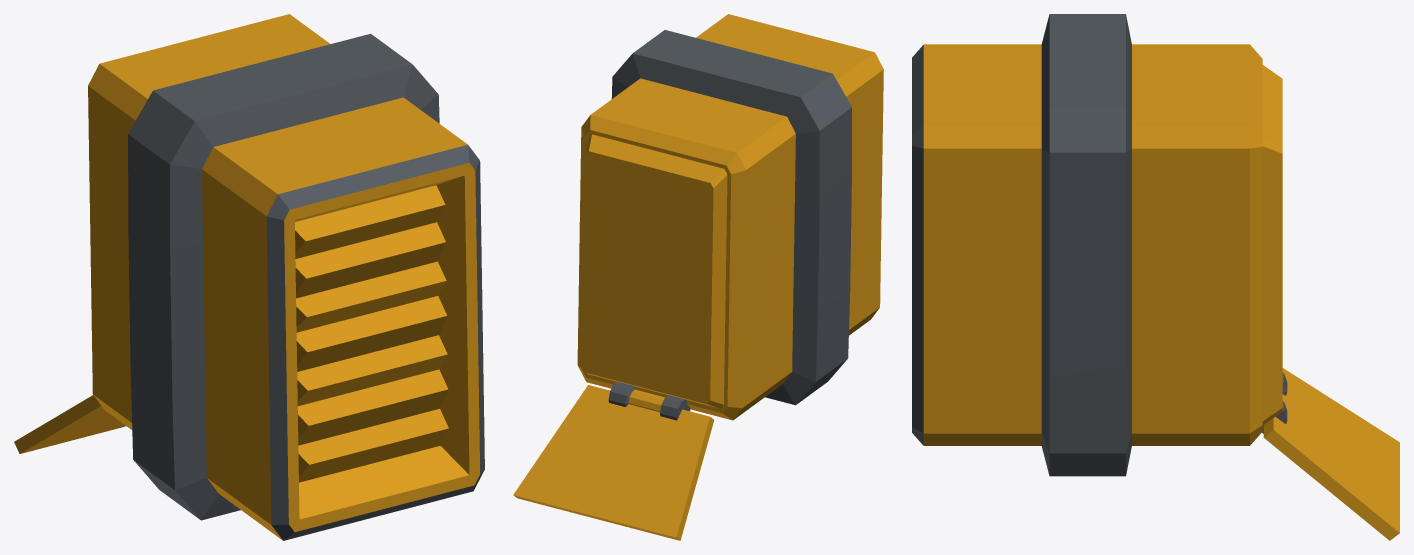
Rendered from Dropship_02_Glider_Yellow.fbx.
3 views of the same model, side by side, from view 1: azimuth 30°, elevation 25°; view 2: azimuth 150°, elevation 25°; view 3: azimuth 270°, elevation 25° (orthographic). The views are drawn at different scales.
Parts seen in each view (by area): view 1: Dropship_02_Glider_Yellow; view 2: Dropship_02_Glider_Yellow; view 3: Dropship_02_Glider_Yellow.
Part boxes in pixels (x1,y1,x2,y2): Dropship_02_Glider_Yellow: (14, 14, 484, 540); Dropship_02_Glider_Yellow: (513, 14, 883, 540); Dropship_02_Glider_Yellow: (912, 14, 1399, 540).
Size of the model in its own units: 165 by 273 by 278.
1 material, 1 textured.
